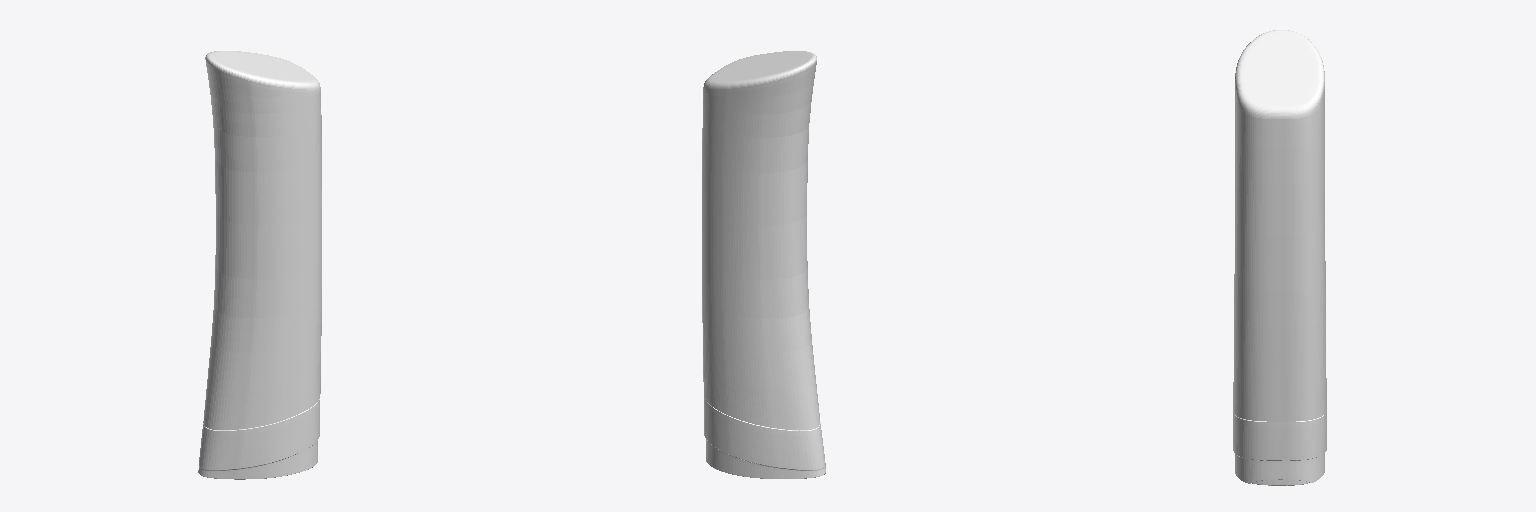
The model's file is bottle-test.obj.
The picture shows the model from 3 angles: view 1: azimuth 30°, elevation 25°; view 2: azimuth 150°, elevation 25°; view 3: azimuth 270°, elevation 25°; orthographic projection.
Parts seen in each view (by area): view 1: Line002; view 2: Line002; view 3: Line002.
Part boxes in pixels (bbox=[...]): Line002: bbox=[198, 51, 321, 479]; Line002: bbox=[702, 51, 825, 478]; Line002: bbox=[1233, 30, 1326, 485].
Size of the model in its own units: 2.24 by 7.82 by 1.62.